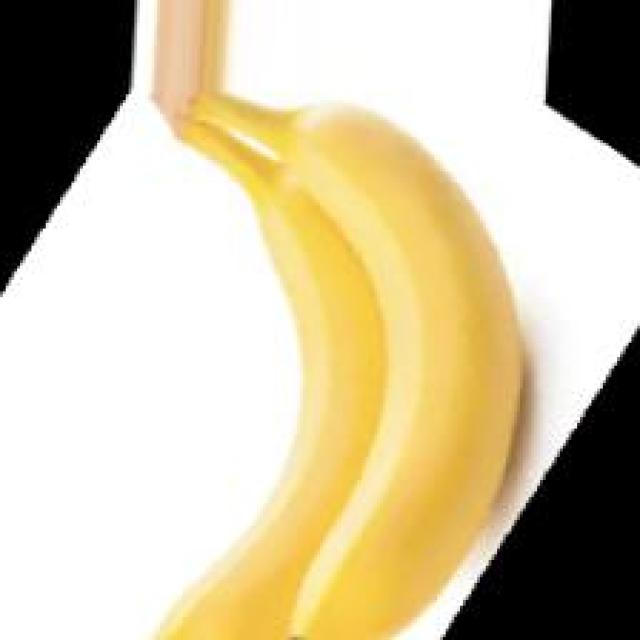banana: (154, 76, 531, 640)
